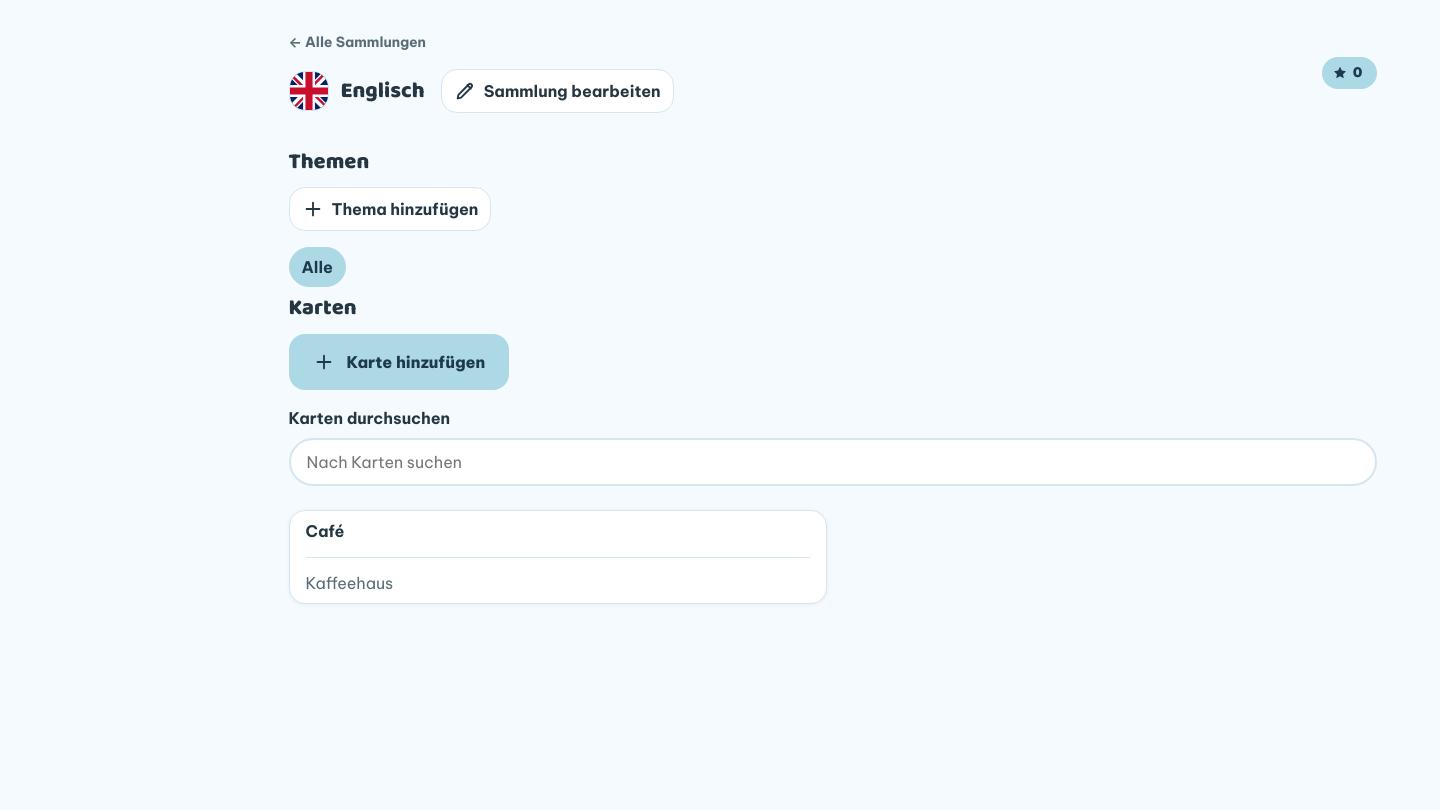
Test: rendered app journeys › creates a Topic from the Card dialog and keeps the Card dialog open
Click the button "Karte hinzufügen".
click(399, 362)  # box [288,334,509,390]
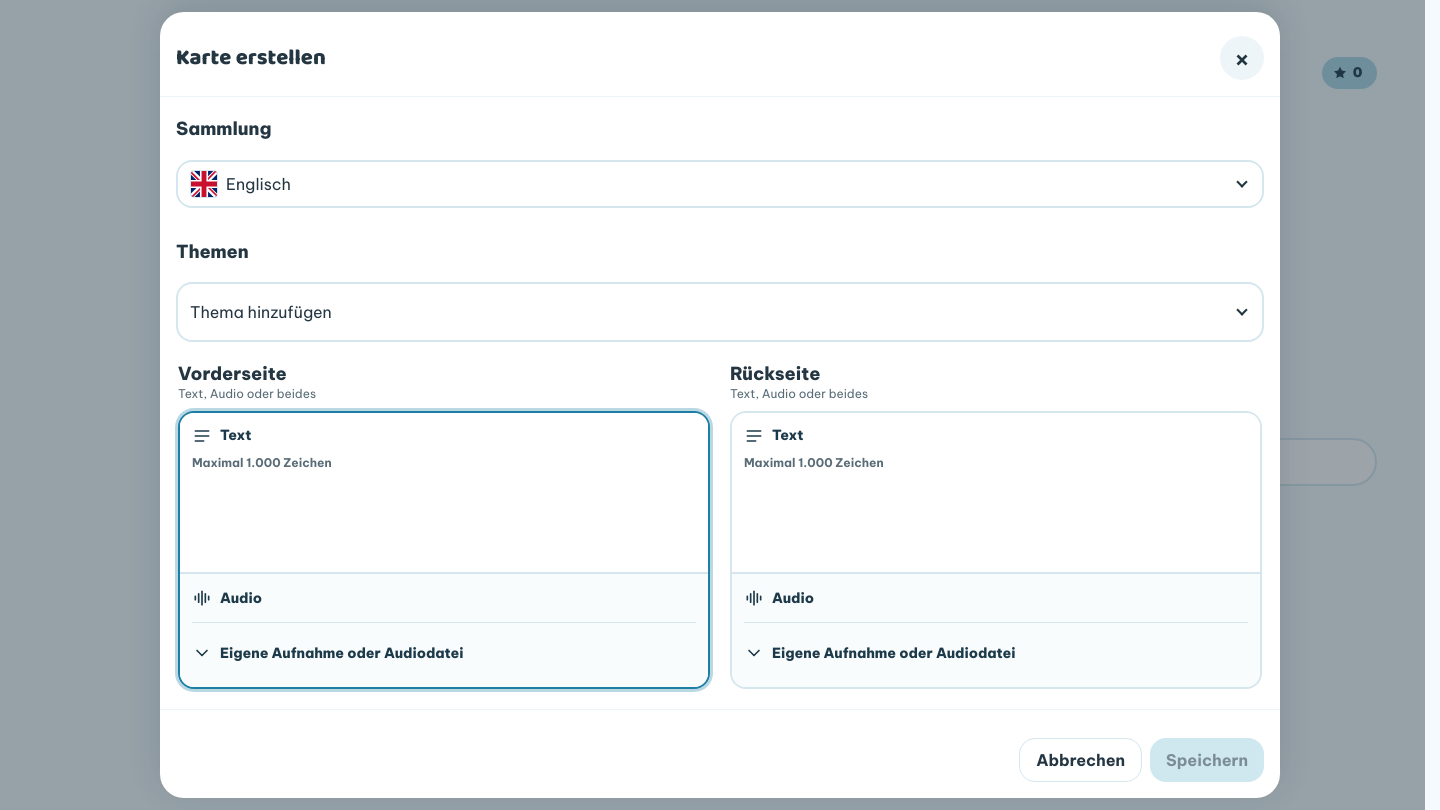
Click the dropdown named "Themen".
click(261, 312)  # box [176,282,1264,342]
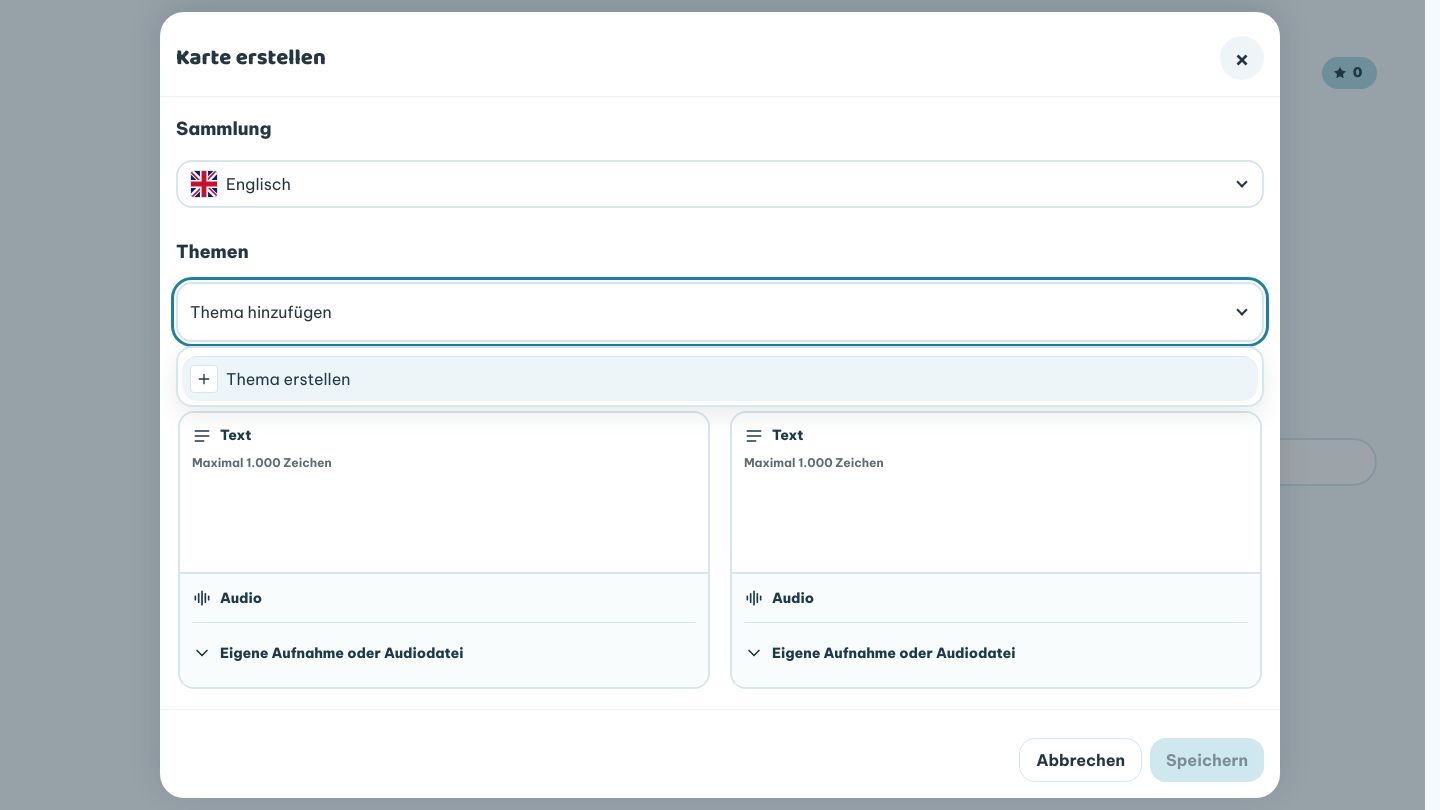
Click the option "Thema erstellen".
click(288, 379)  # box [182,356,1258,401]
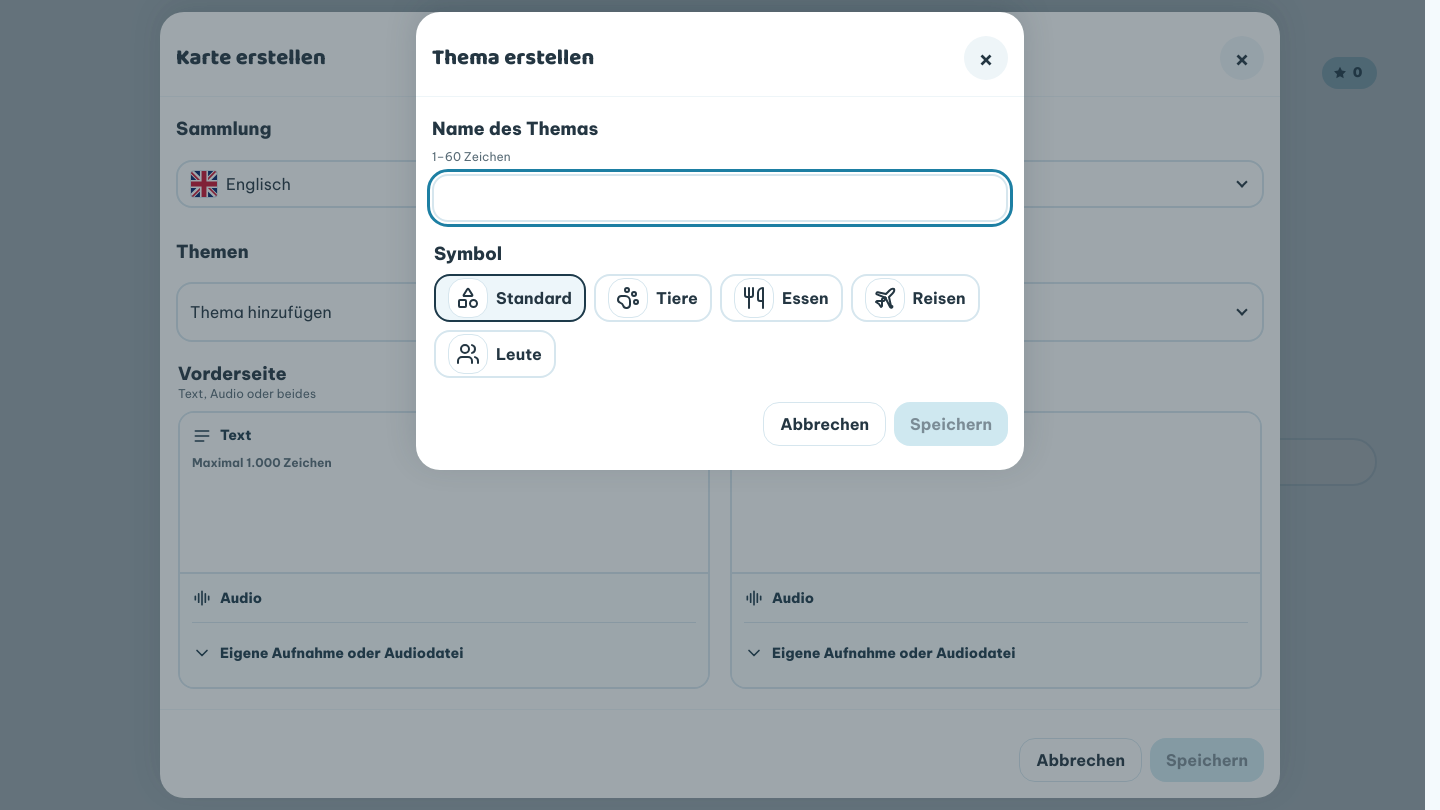
Result: the heading "Thema erstellen" is shown at [432,42,594,74]
Result: the heading "Karte erstellen" is shown at [176,42,326,74]
Type "Essen" into the field labelled "Name des Themas".
click(720, 198); type("Essen")  # box [432,174,1008,222]
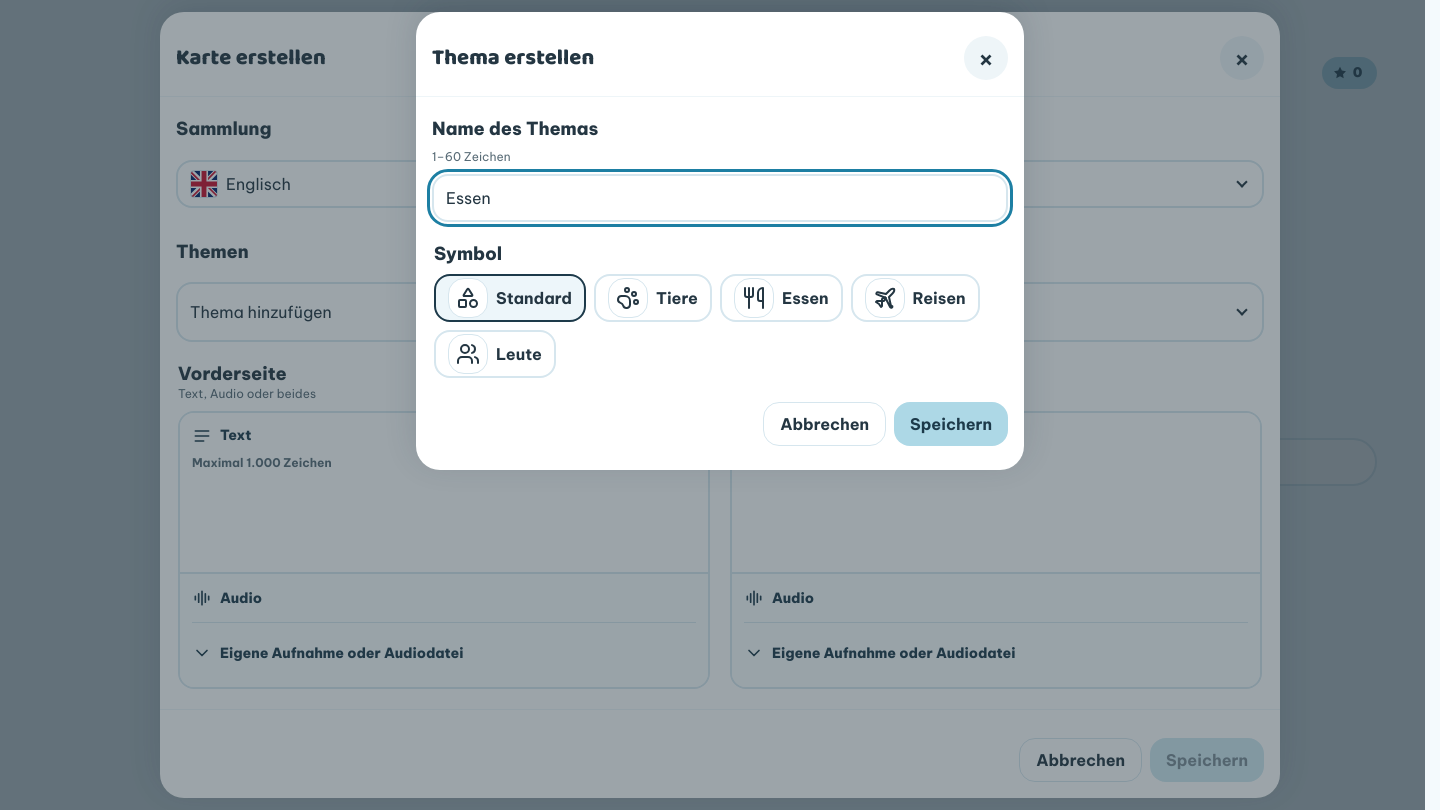
Click the button "Speichern".
click(951, 424)  # box [894,402,1008,446]
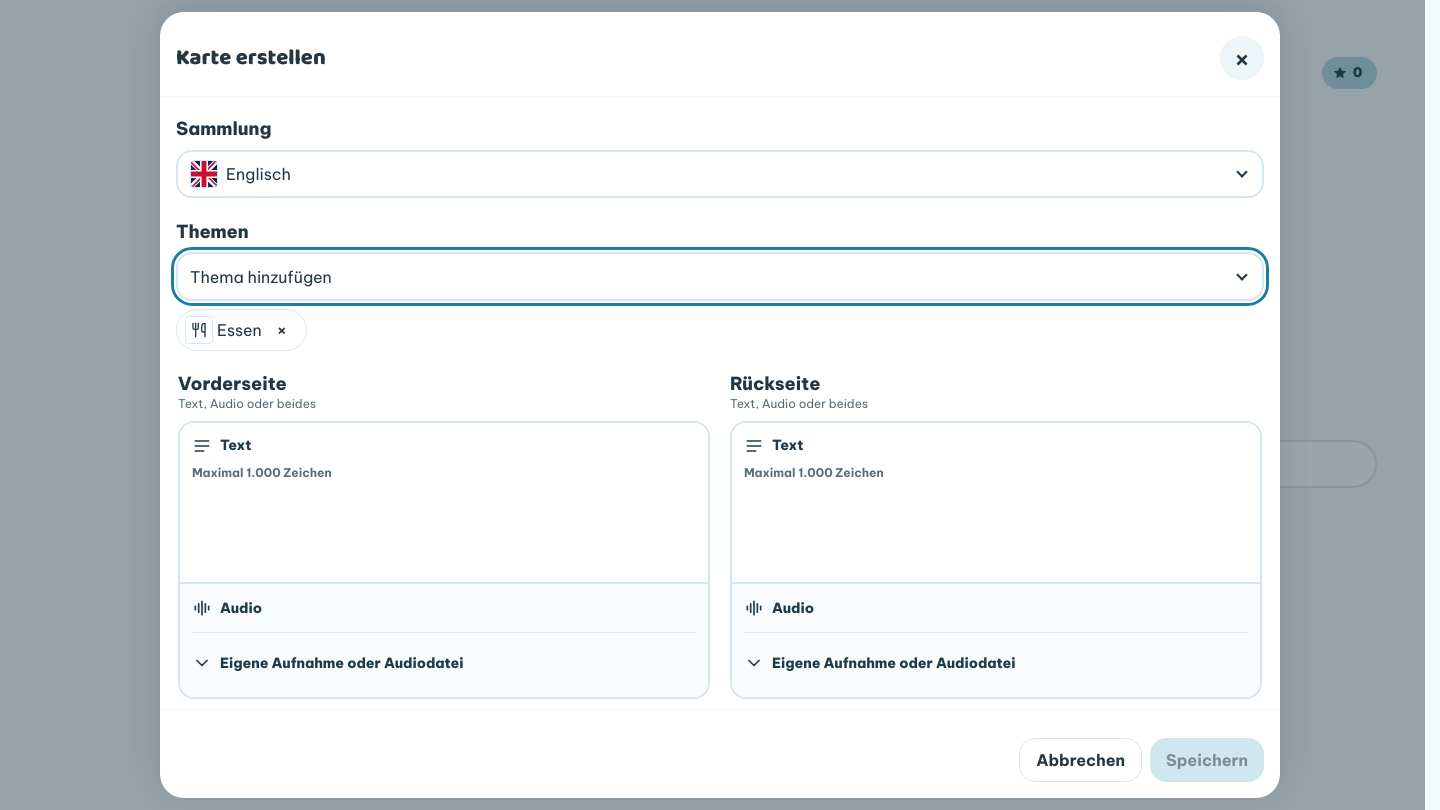
Result: the heading "Karte erstellen" is shown at [176,42,326,74]
Result: the button named "Essen entfernen" is shown at [266,314,298,346]
Result: the heading "Thema erstellen" is gone
